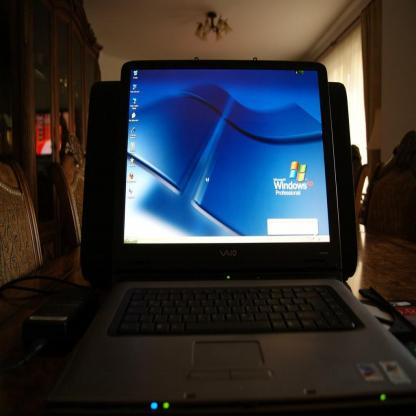board: (48, 55, 416, 416)
